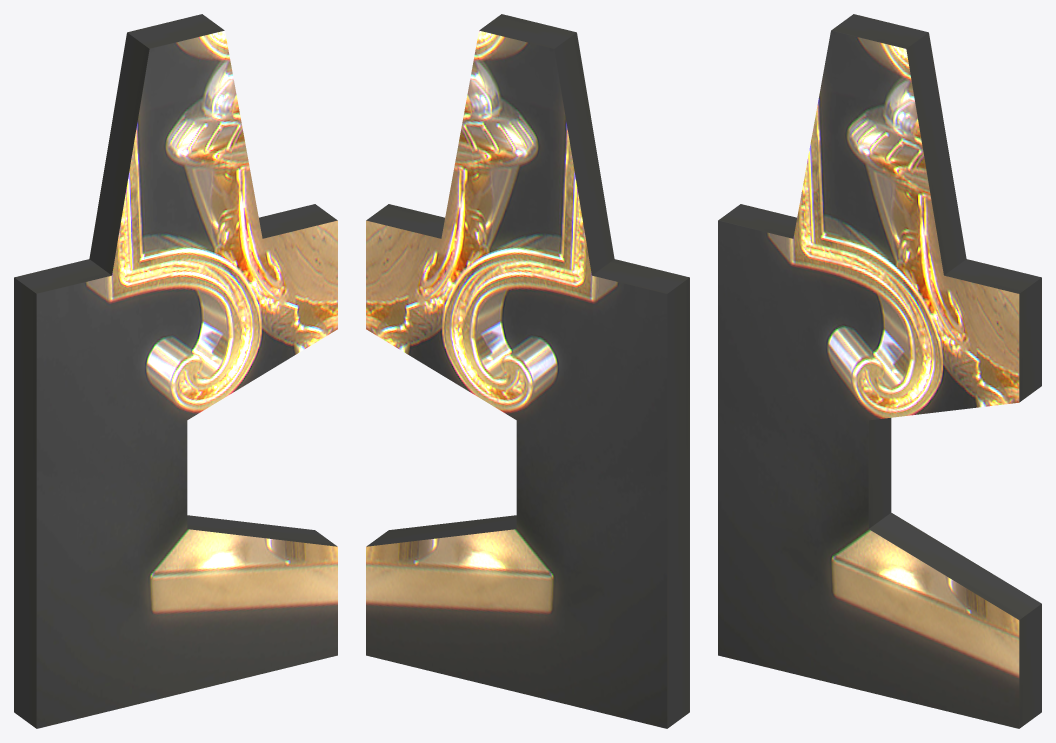
3 views of the same model, side by side, from view 1: azimuth 30°, elevation 25°; view 2: azimuth 150°, elevation 25°; view 3: azimuth 330°, elevation 25° (orthographic).
Parts seen in each view (by area): view 1: PuzzlePiece1; view 2: PuzzlePiece1; view 3: PuzzlePiece1.
Boxes of the visible parts, bbox=[...] form: PuzzlePiece1: bbox=[14, 14, 337, 728]; PuzzlePiece1: bbox=[366, 14, 689, 728]; PuzzlePiece1: bbox=[718, 14, 1041, 728].
Bounding box in the file's own units: 0.9815 × 2.03 × 0.1279.
Materials: 1 (1 with a texture image).
